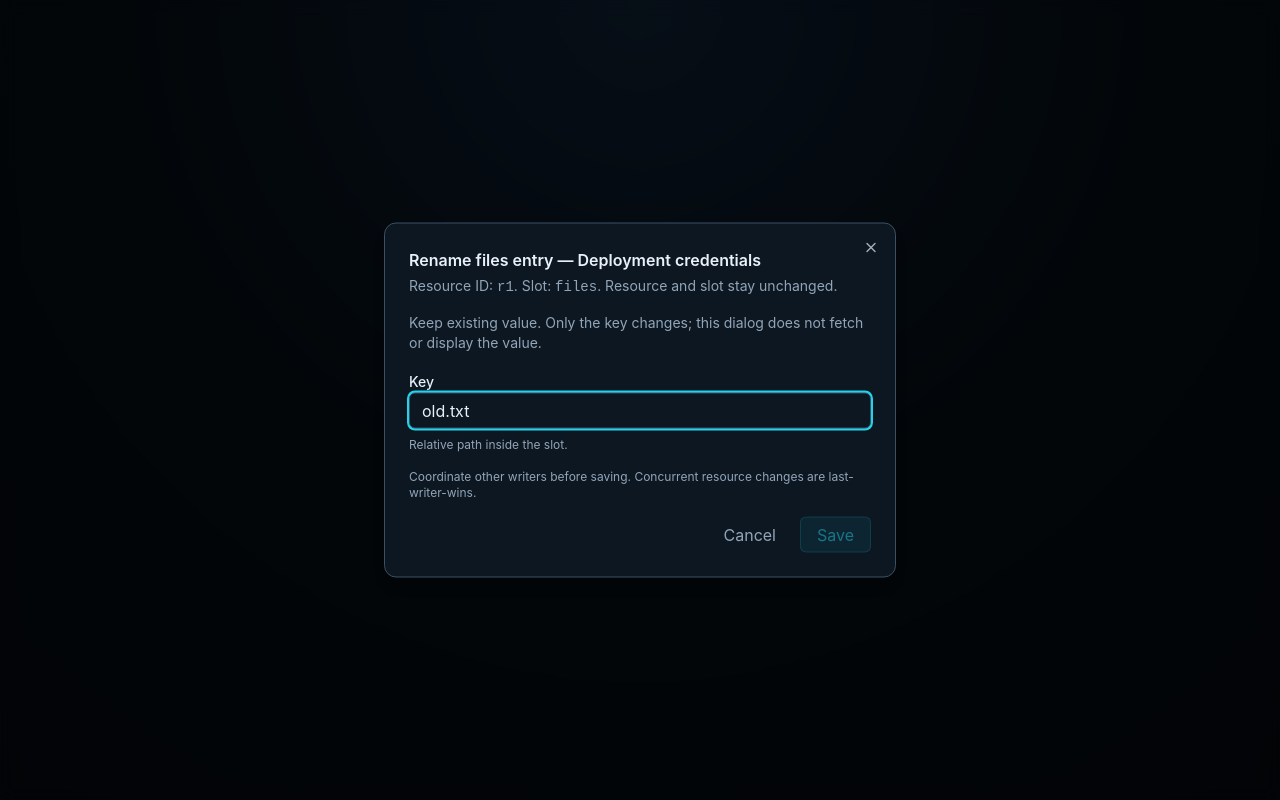
Test: WriteSecretDialog › rejects a Rename collision without overwriting the destination
The width and height of the screenshot is (1280, 800).
Replace the text in the field labelled "Key" with "taken.txt" at (640, 410), box [409,392,871,428]
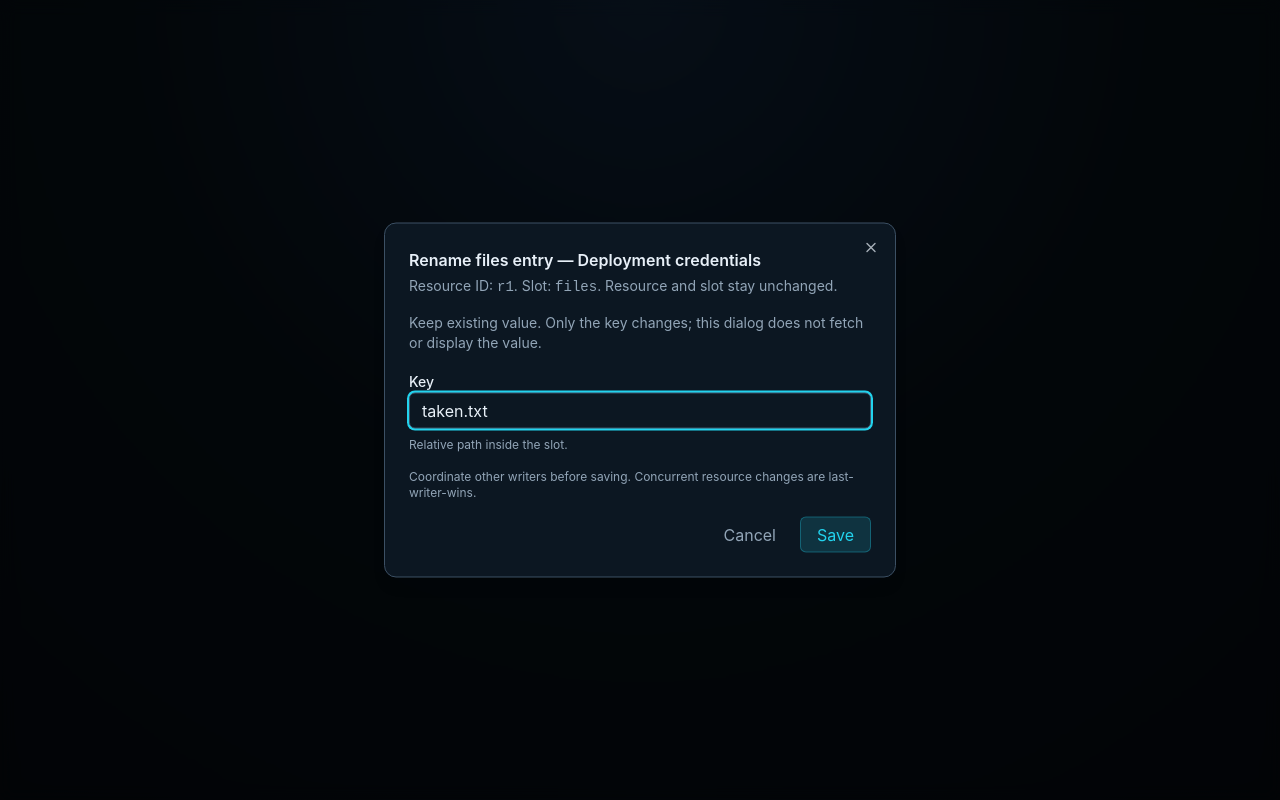
Click the button "Save".
click(836, 534)  # box [800,516,871,552]
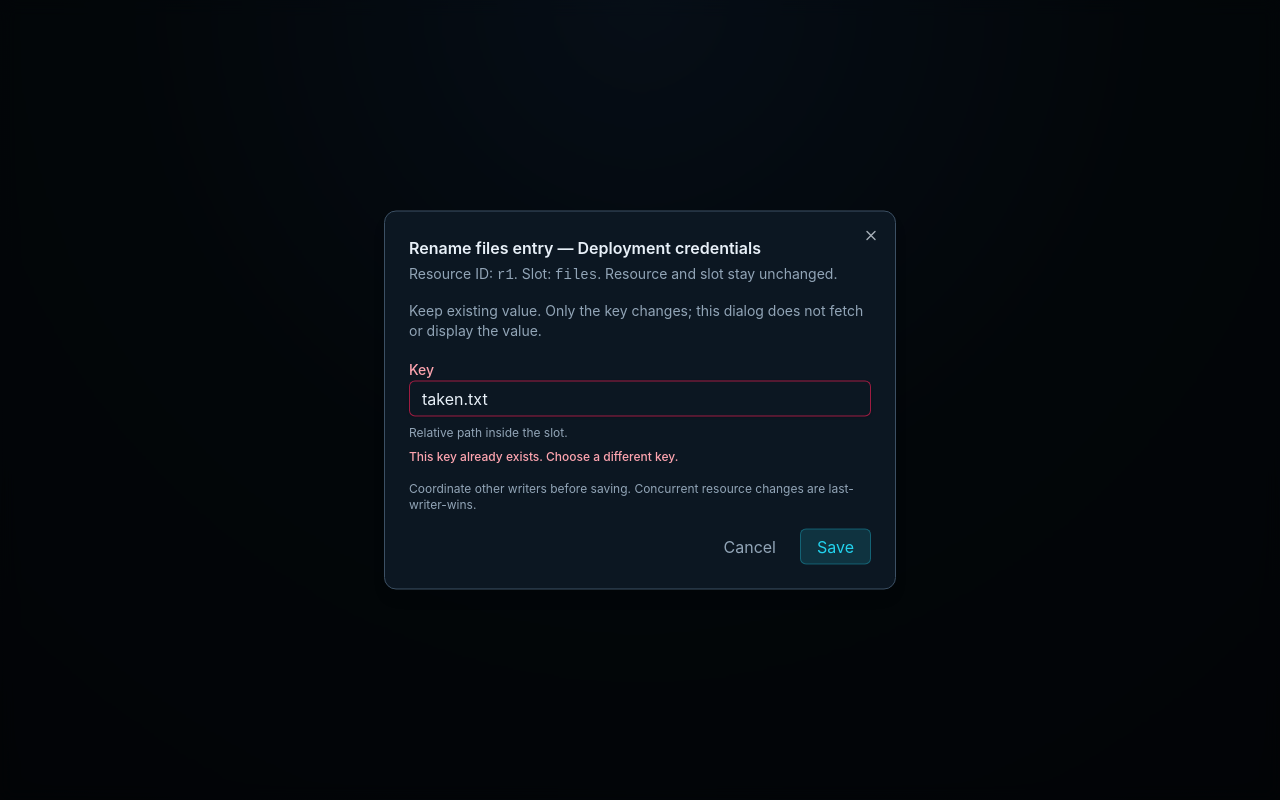
Check: the text "This key already exists. Choose a different key." is shown, box [409,448,678,464]
